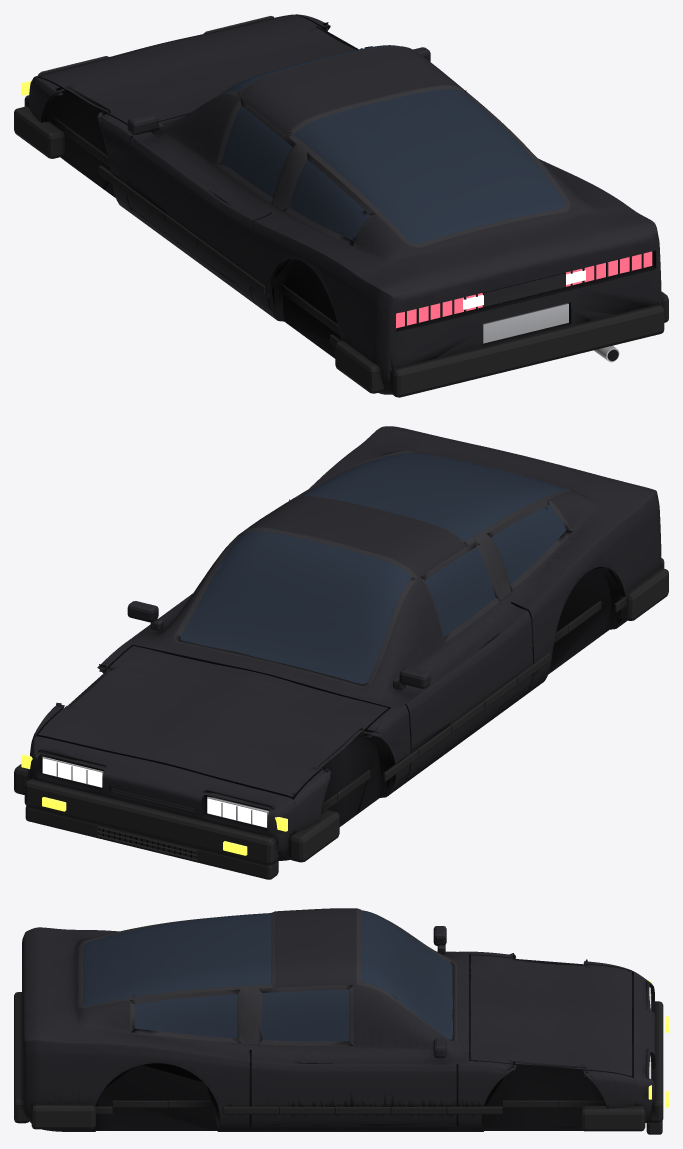
Rendered from coupe_lo.glb.
3 renders of one model, top to bottom at view 1: azimuth 30°, elevation 25°; view 2: azimuth 150°, elevation 25°; view 3: azimuth 270°, elevation 25°, orthographic. The views are drawn at different scales.
Visible parts, largest first — view 1: body, glass_panes, part.022, part.025, part.050, part.017, part.023, cabin_skin, part.047; view 2: body, glass_panes, part.016, part.019, cabin_skin, part.017, part.023, part.006, part.001, object 7; view 3: body, glass_panes, part.024, part.018, cabin_skin, part.016, part.022, part.059, part.065, part.067, part.061, part.063 (+3 smaller).
Part boxes in pixels (bbox=[...]): body: bbox=[29, 14, 661, 394]; glass_panes: bbox=[218, 45, 565, 243]; part.022: bbox=[389, 304, 664, 397]; part.025: bbox=[396, 251, 652, 328]; part.050: bbox=[482, 303, 568, 343]; part.017: bbox=[14, 106, 64, 158]; part.023: bbox=[335, 341, 384, 393]; cabin_skin: bbox=[32, 16, 656, 332]; part.047: bbox=[482, 272, 565, 306]; body: bbox=[29, 426, 661, 860]; glass_panes: bbox=[180, 452, 566, 684]; part.016: bbox=[24, 778, 278, 864]; part.019: bbox=[25, 806, 278, 879]; cabin_skin: bbox=[32, 457, 624, 822]; part.017: bbox=[289, 810, 339, 862]; part.023: bbox=[618, 568, 668, 620]; part.006: bbox=[42, 758, 102, 787]; part.001: bbox=[207, 798, 266, 827]; object 7: bbox=[97, 826, 197, 860]; body: bbox=[22, 908, 655, 1131]; glass_panes: bbox=[83, 910, 452, 1041]; part.024: bbox=[31, 1104, 95, 1129]; part.018: bbox=[581, 1106, 645, 1131]; cabin_skin: bbox=[94, 953, 650, 1129]; part.016: bbox=[648, 1001, 663, 1122]; part.022: bbox=[14, 992, 28, 1123]; part.059: bbox=[446, 1106, 502, 1114]; part.065: bbox=[279, 1106, 335, 1114]; part.067: bbox=[223, 1106, 279, 1114]; part.061: bbox=[391, 1106, 446, 1114]; part.063: bbox=[335, 1106, 390, 1114].
Bounding box in the file's own units: 1.82 × 1.04 × 4.08.
